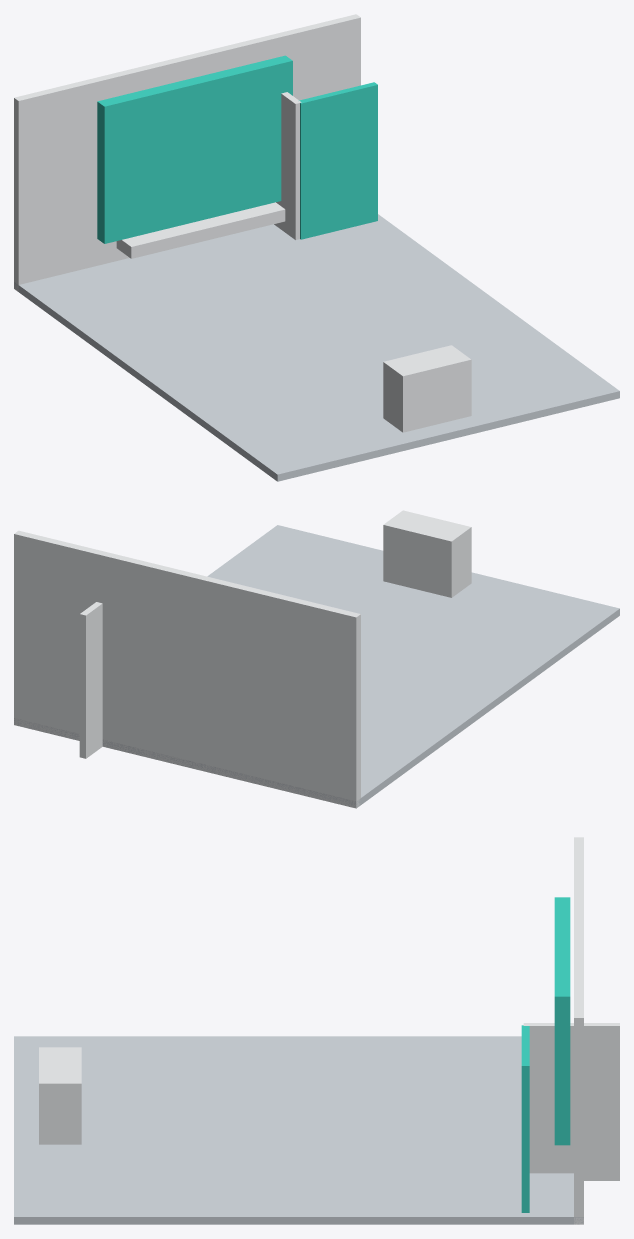
The picture shows the model from 3 angles, top to bottom: view 1: azimuth 30°, elevation 25°; view 2: azimuth 150°, elevation 25°; view 3: azimuth 270°, elevation 25°; orthographic projection. The views are drawn at different scales.
Parts seen in each view (by area): view 1: Exhibition Booth Concept; view 2: Exhibition Booth Concept; view 3: Exhibition Booth Concept.
Part boxes in pixels (<box>): Exhibition Booth Concept: <box>14,14,619,481</box>; Exhibition Booth Concept: <box>14,510,619,808</box>; Exhibition Booth Concept: <box>14,837,619,1224</box>.
Bounding box in the file's own units: 6 × 3.2 × 8.51.
